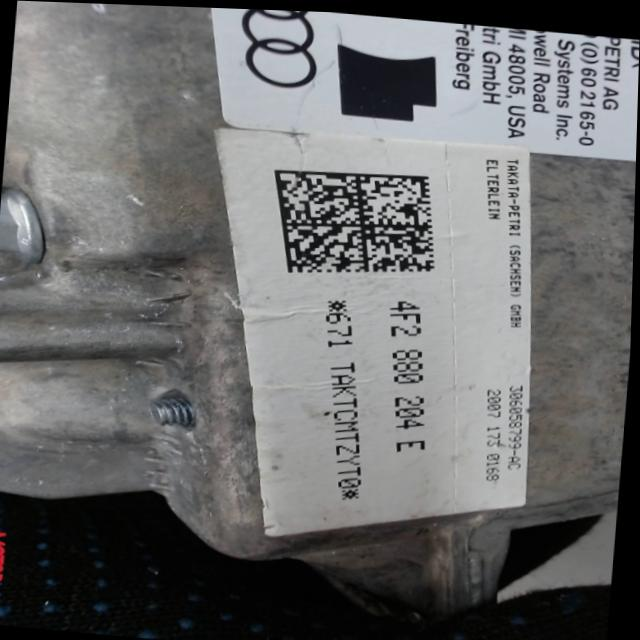datamatrix: (268, 161, 444, 283)
